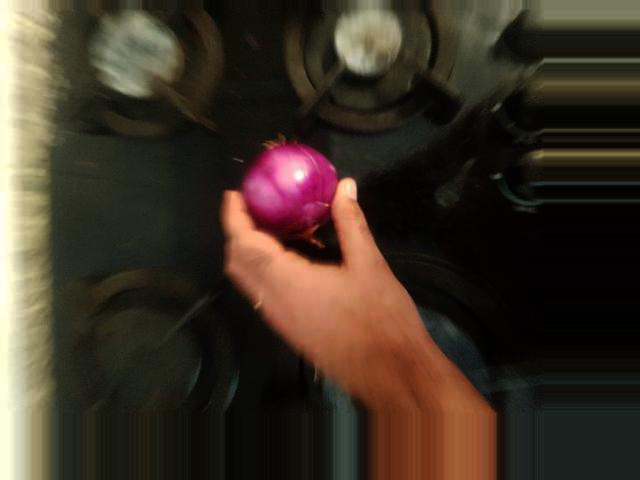onion: (243, 148, 366, 260)
